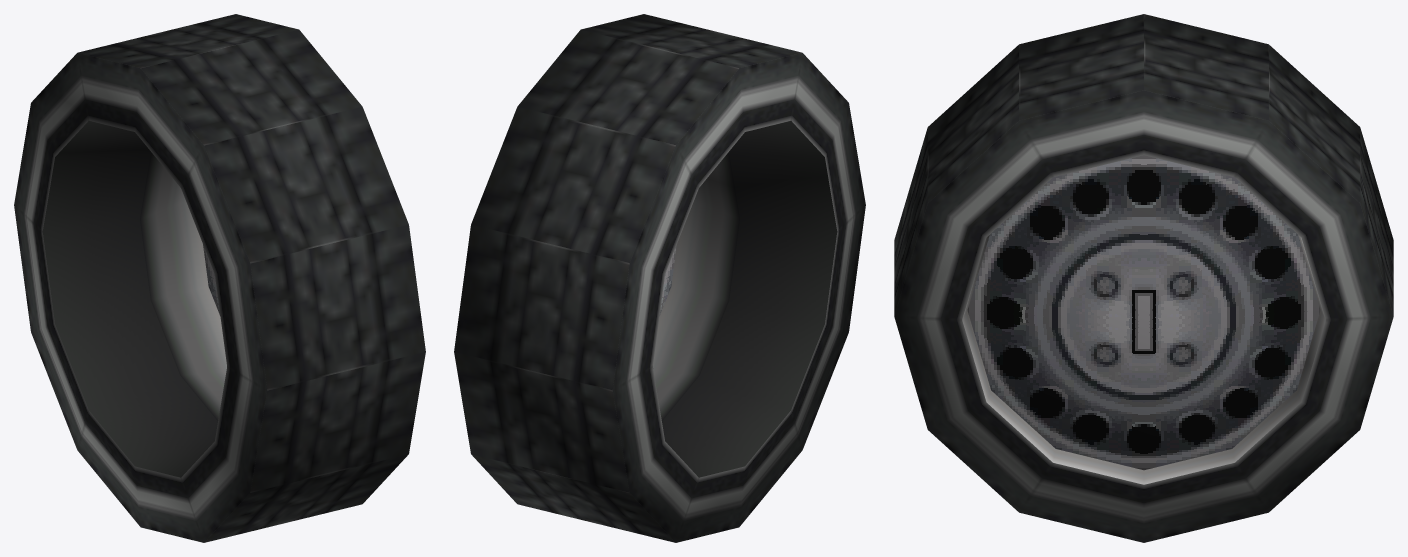
Rendered from DefaultWheel_tampa.glb.
3 renders of one model, left to right at view 1: azimuth 30°, elevation 25°; view 2: azimuth 150°, elevation 25°; view 3: azimuth 270°, elevation 25°, orthographic.
Parts seen in each view (by area): view 1: wheel; view 2: wheel; view 3: wheel.
Part boxes in pixels (left/top/right/bottom): wheel: left=14, top=14, right=425, bottom=542; wheel: left=454, top=14, right=865, bottom=542; wheel: left=894, top=14, right=1393, bottom=542.
Size of the model in its own units: 0.2816 by 0.6816 by 0.6816.
Materials: 3 (3 with a texture image).
